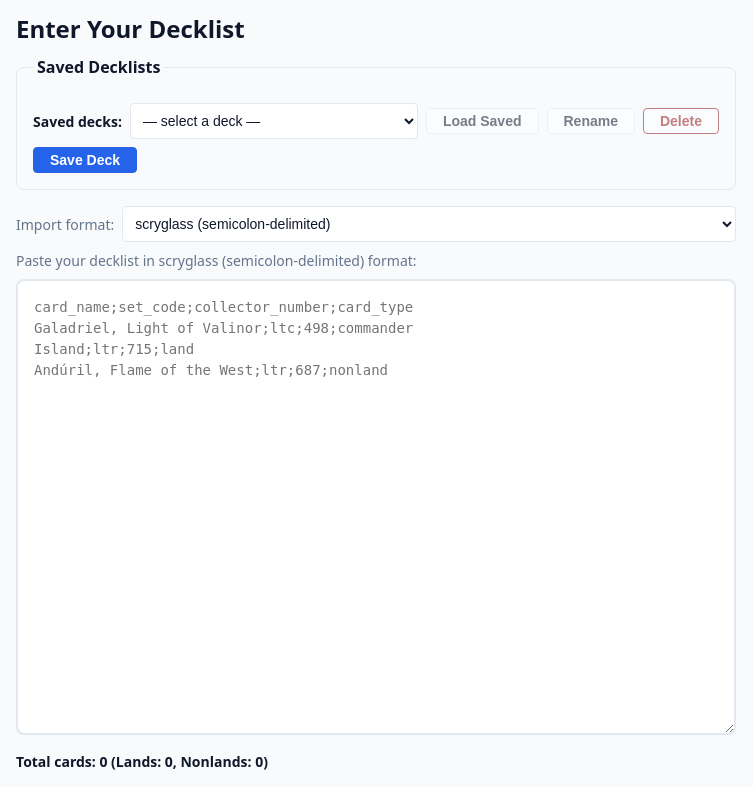
<DeckInput /> › shows warnings for commander cards
Replace the text in the text box with "Galadriel, Light of Valinor;ltc;498;commander Island;ltr;715;land" at (376, 507), box [16,279,736,735]
Wait 350 ms
(page scrolled)
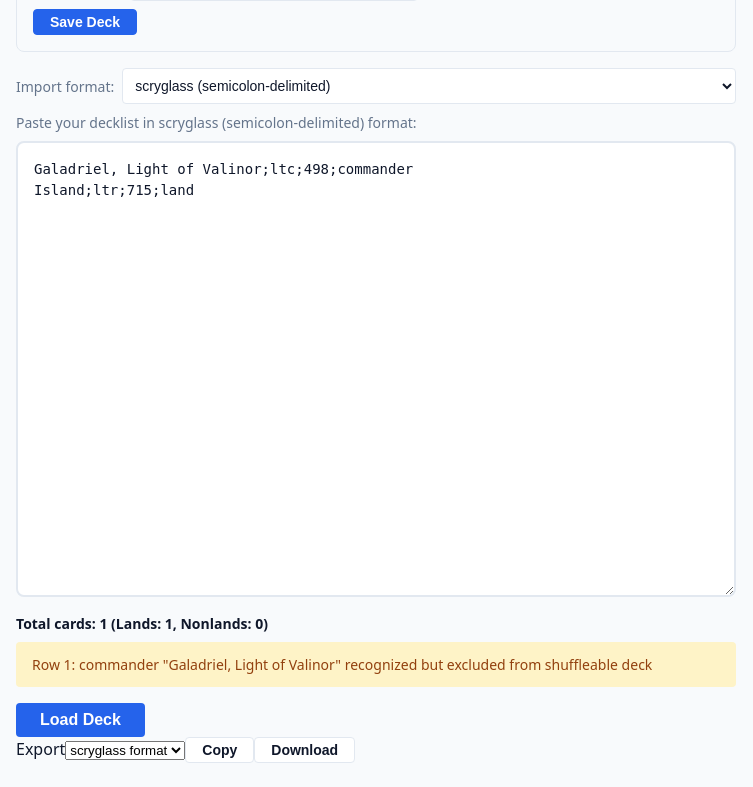
Expected: the list named "warnings" is shown, [16,642,736,687]
Expected: the list named "warnings" shows "commander", [32,655,652,674]
